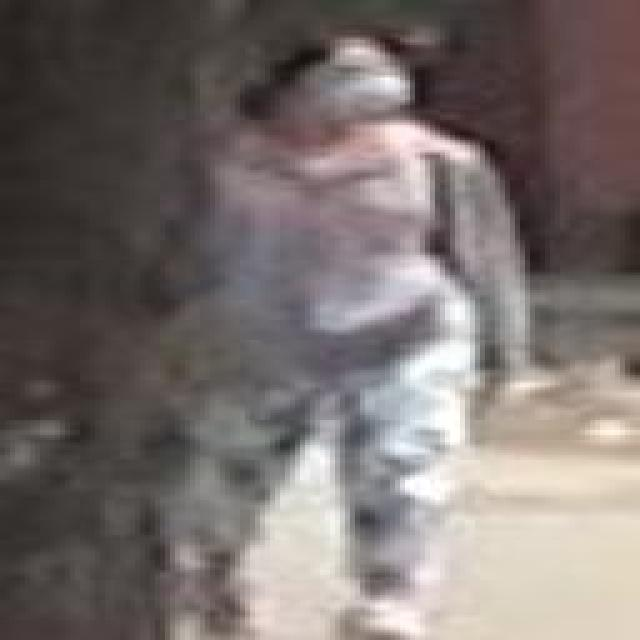adult: (227, 30, 512, 637)
